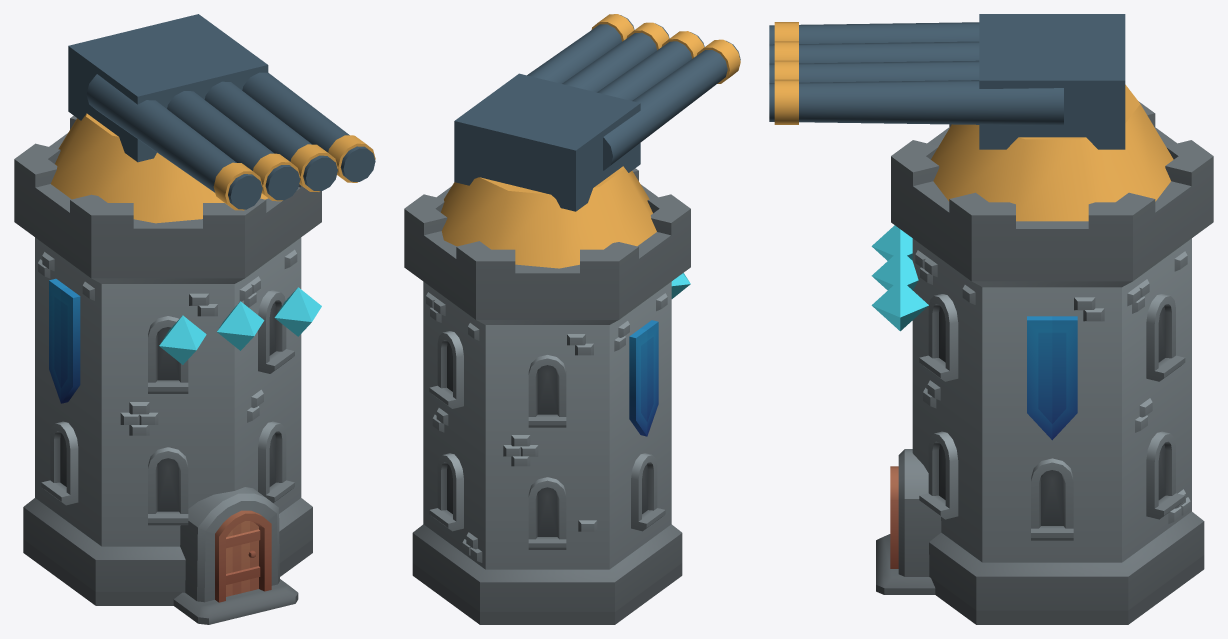
The model's file is tower_gun_l3.glb.
3 renders of one model, left to right at view 1: azimuth 30°, elevation 25°; view 2: azimuth 150°, elevation 25°; view 3: azimuth 270°, elevation 25°, orthographic. The views are drawn at different scales.
Visible parts, largest first — view 1: Base, BarrelAssembly, Turret; view 2: Base, BarrelAssembly, Turret; view 3: Base, BarrelAssembly, Turret.
Part boxes in pixels (left/top/right/bottom): Base: left=14, top=115, right=321, bottom=624; BarrelAssembly: left=68, top=14, right=375, bottom=210; Turret: left=51, top=113, right=267, bottom=223; Base: left=404, top=168, right=690, bottom=624; BarrelAssembly: left=454, top=14, right=740, bottom=211; Turret: left=441, top=166, right=656, bottom=268; Base: left=871, top=101, right=1213, bottom=624; BarrelAssembly: left=769, top=14, right=1125, bottom=149; Turret: left=931, top=84, right=1173, bottom=221.
Bounding box in the file's own units: 0.9298 × 1.9 × 1.46.
Materials: 4 (1 with a texture image).
